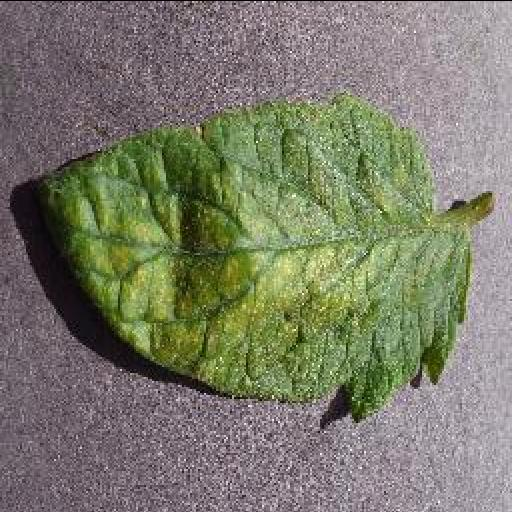disease_tomato: (40, 97, 472, 423)
